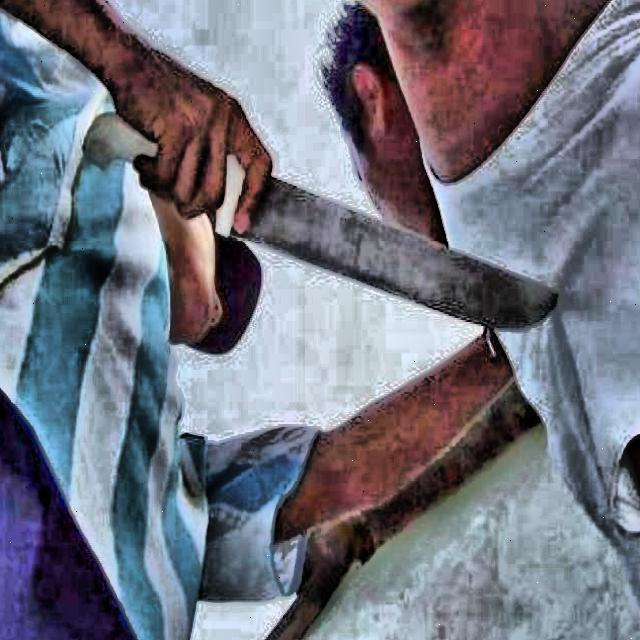knife: (84, 114, 563, 332)
